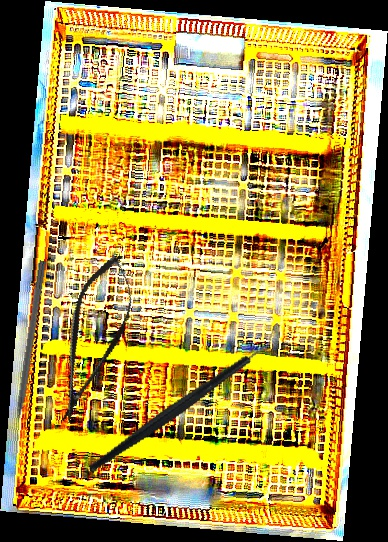Chopper: (66, 324, 300, 474)
Micro Scissor: (40, 247, 147, 431)
Pusher: (8, 259, 47, 445)
